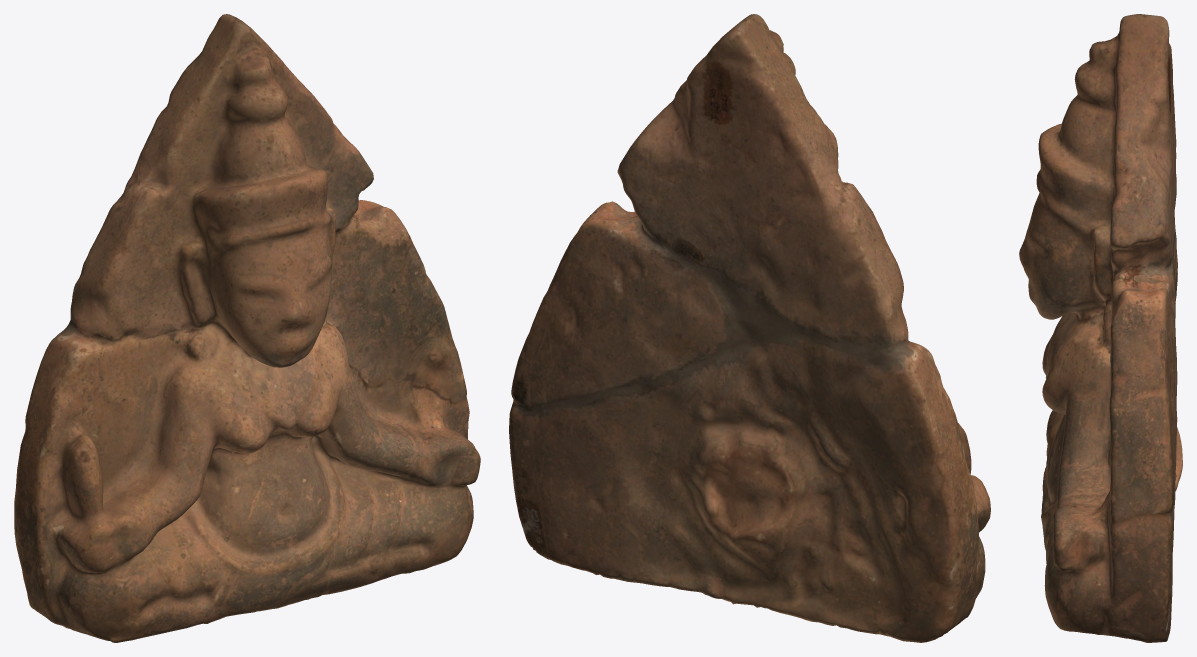
File: MysonMuseum_laksmi_final.glb
3 renders of one model, left to right at view 1: azimuth 30°, elevation 25°; view 2: azimuth 150°, elevation 25°; view 3: azimuth 270°, elevation 25°, orthographic. The views are drawn at different scales.
Bounding box in the file's own units: 0.3258 × 0.4051 × 0.1106.
1 material, 1 textured.
